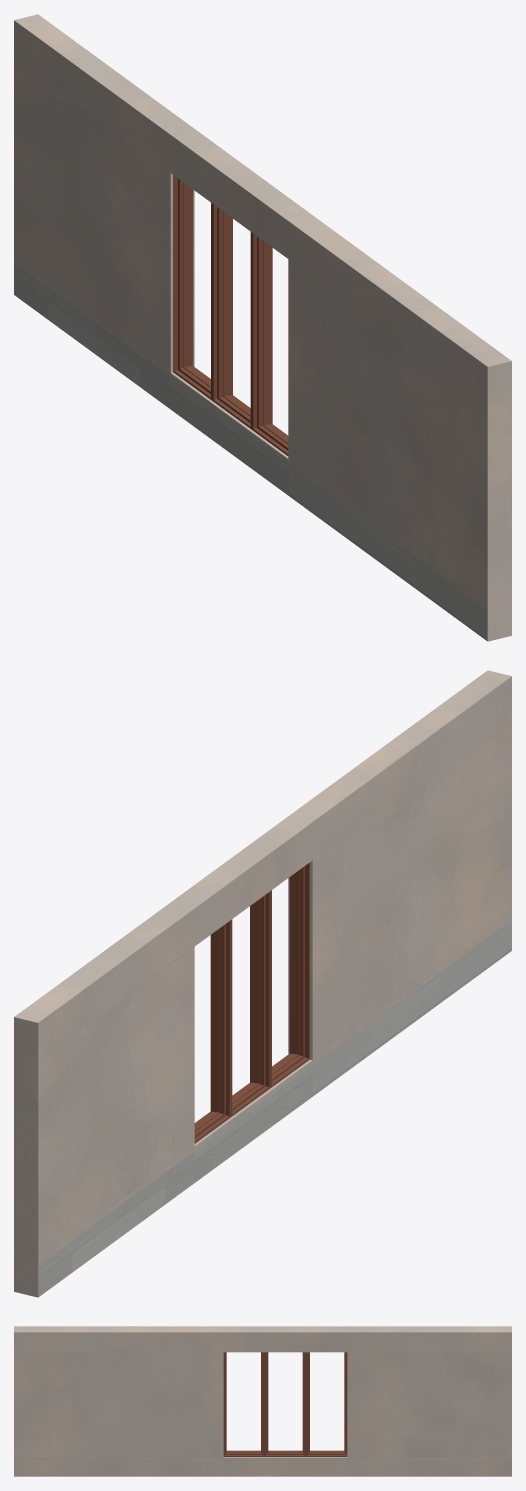
Rendered from M_Tembok_Kiri.fbx.
3 renders of one model, top to bottom at view 1: azimuth 30°, elevation 25°; view 2: azimuth 150°, elevation 25°; view 3: azimuth 270°, elevation 25°, orthographic. The views are drawn at different scales.
Parts seen in each view (by area): view 1: Tembok_Kiri; view 2: Tembok_Kiri; view 3: Tembok_Kiri.
Boxes of the visible parts, x1=… form: Tembok_Kiri: x1=14, y1=14, x2=511, y2=641; Tembok_Kiri: x1=14, y1=670, x2=511, y2=1297; Tembok_Kiri: x1=14, y1=1326, x2=511, y2=1476.
Bounding box in the file's own units: 25.28 × 274 × 858.
